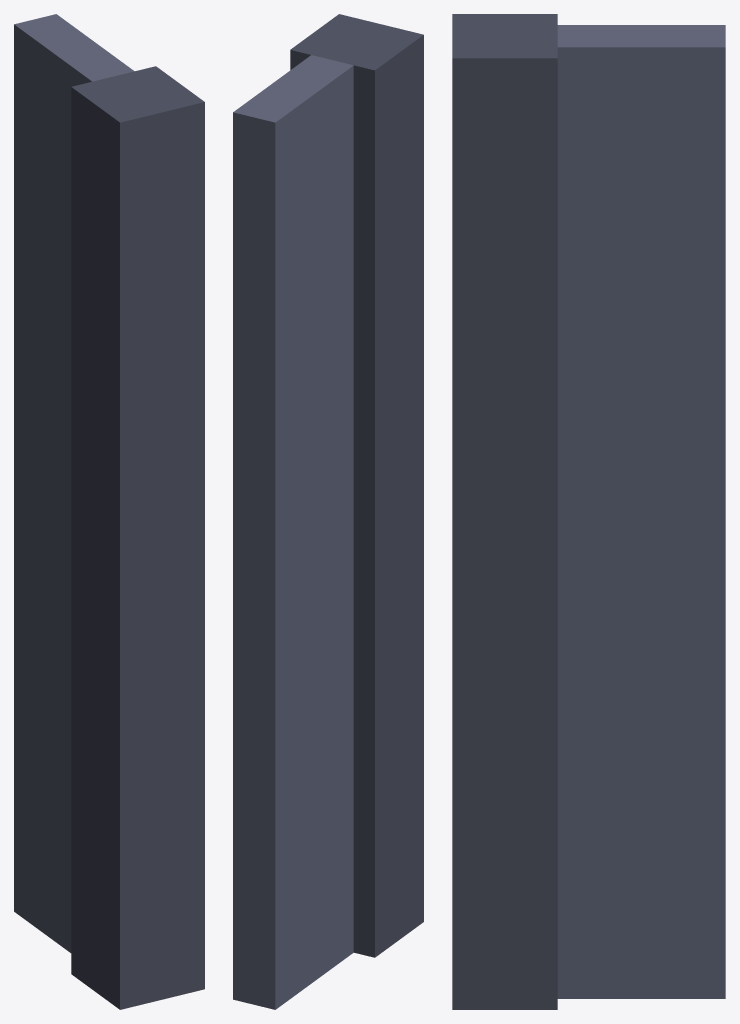
Rendered from wall-wood-side.glb.
The picture shows the model from 3 angles, left to right: view 1: azimuth 30°, elevation 25°; view 2: azimuth 150°, elevation 25°; view 3: azimuth 270°, elevation 25°; orthographic projection. The views are drawn at different scales.
Visible parts, largest first — view 1: wall-wood-side; view 2: wall-wood-side; view 3: wall-wood-side.
Part boxes in pixels (x1,y1,x2,y2): wall-wood-side: [14, 14, 204, 1009]; wall-wood-side: [233, 14, 423, 1009]; wall-wood-side: [452, 14, 725, 1009].
Bounding box in the file's own units: 0.1 × 1 × 0.26.
1 material, 1 textured.
